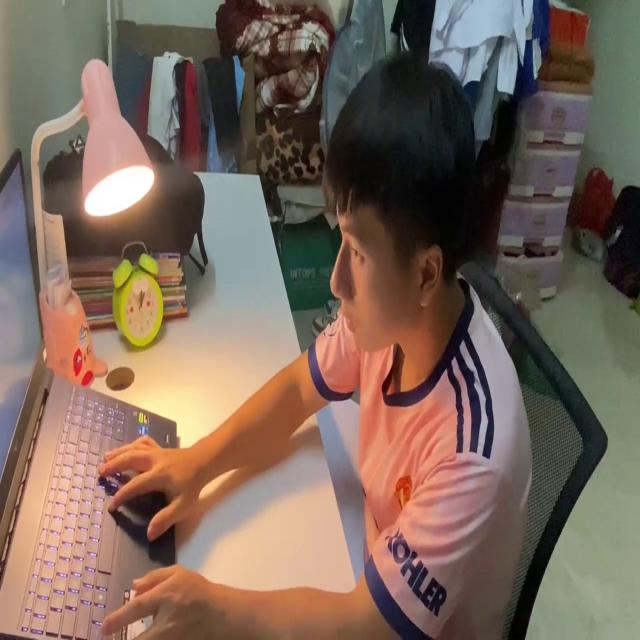book: (315, 384, 366, 588)
laptop: (0, 144, 176, 640)
student: (96, 42, 532, 640)
